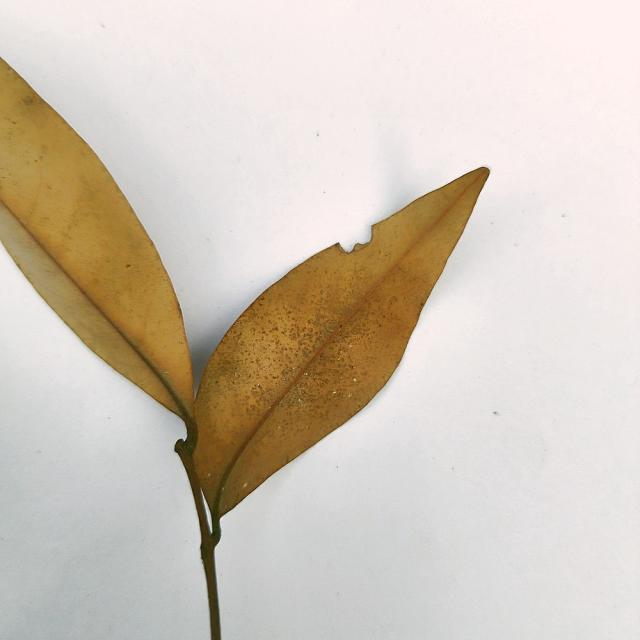Dry_Leaf-Lychee: (0, 57, 490, 605)
